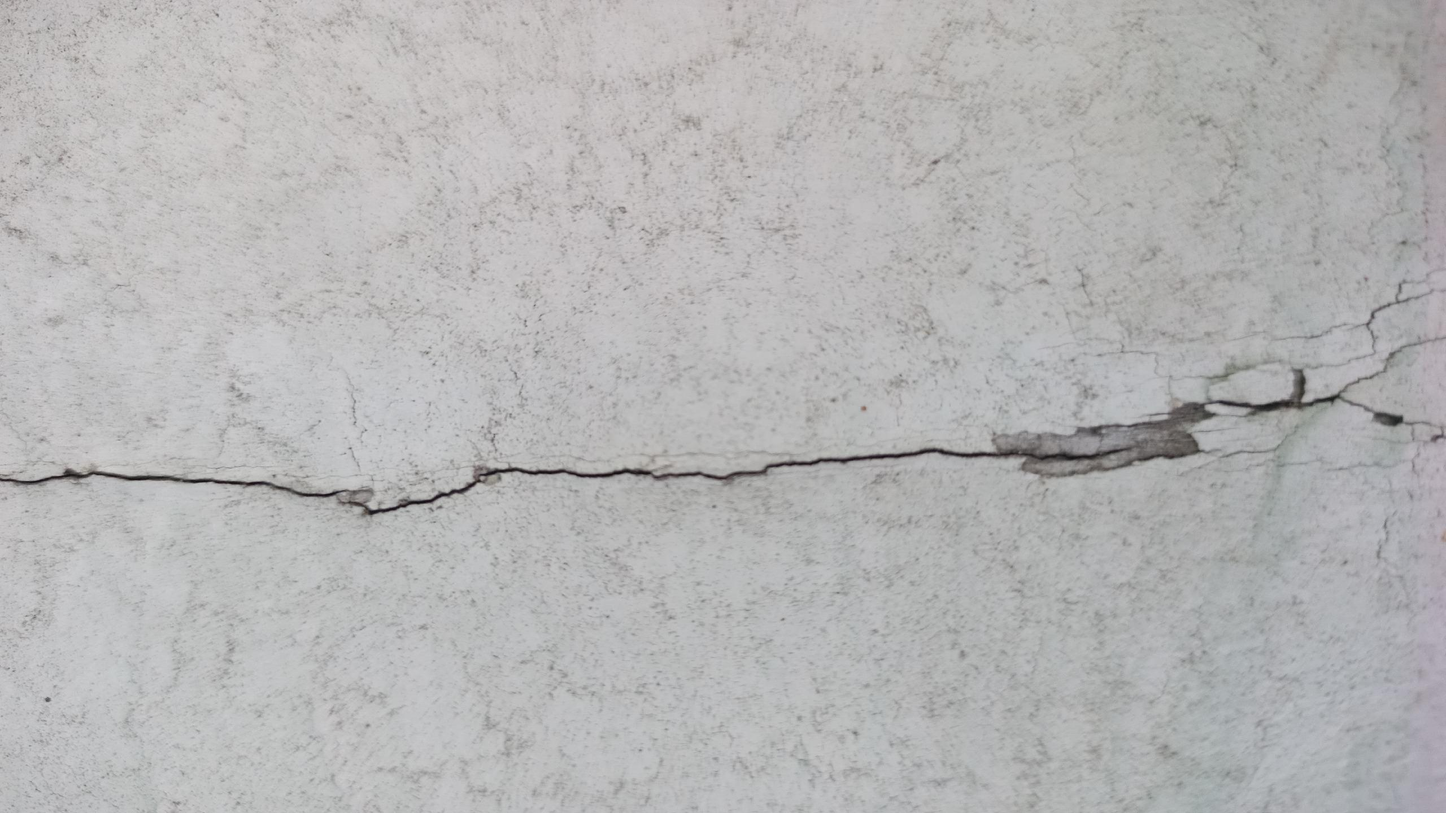crack: (2, 337, 1443, 516)
